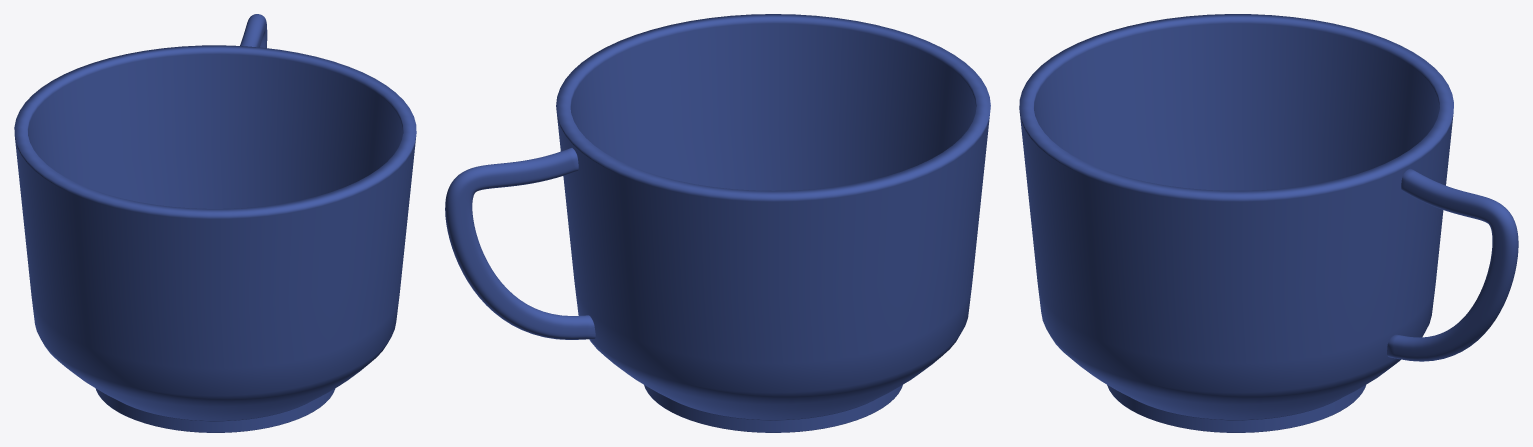
File: cup-blue.glb
The picture shows the model from 3 angles, left to right: view 1: azimuth 30°, elevation 25°; view 2: azimuth 150°, elevation 25°; view 3: azimuth 270°, elevation 25°; orthographic projection. The views are drawn at different scales.
Visible parts, largest first — view 1: Sphere.001; view 2: Sphere.001; view 3: Sphere.001.
Part boxes in pixels (x1,y1,x2,y2): Sphere.001: (14, 14, 416, 432); Sphere.001: (445, 14, 990, 432); Sphere.001: (1019, 14, 1518, 432).
Size of the model in its own units: 0.4035 by 0.2775 by 0.4602.
